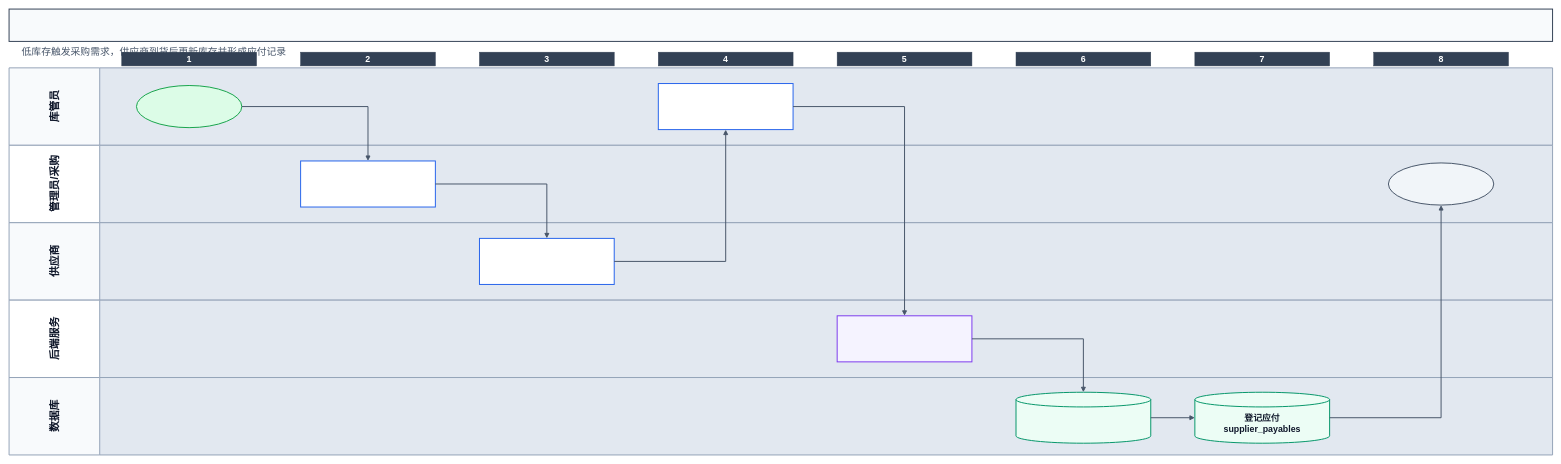
Image size: 1561x464. Some labels were removed from this diagram. Here are the shapes that lost their labels. From the top down, the centre of each, then its label:
the point at 780,25: 采购入库泳道图
the point at 189,106: 查看低库存 库存预警列表
the point at 725,106: 验收入库 实收数量
the point at 368,183: 确认采购需求 商品/数量/供应商
the point at 1441,183: 入库完成 跟踪付款
the point at 546,261: 确认供货 送货/票据
the point at 904,338: 校验商品与供应商 入库数量合法
the point at 1083,417: 增加库存 inventory logs: in
